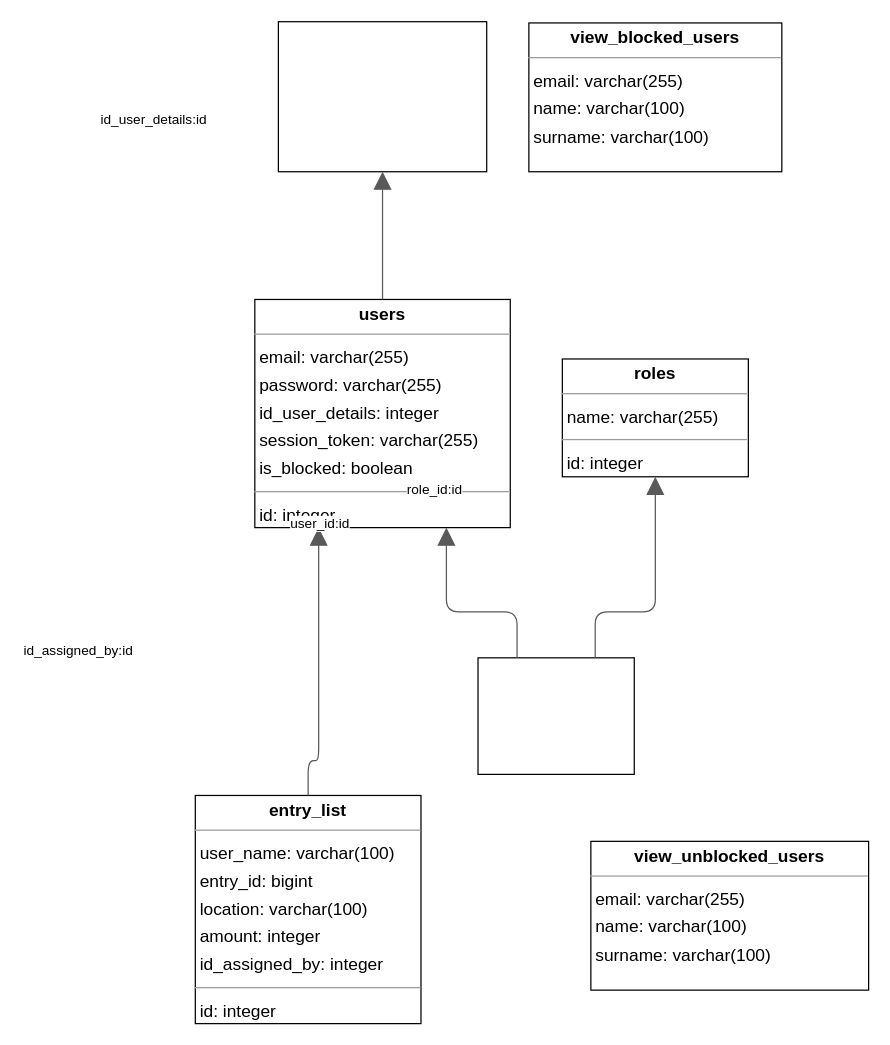
Some shapes in this 890 by 1045 pixel diagram are drawn without their labels. Each missing label, with the centre of its shape:
"user_roles user_id: integer role_id: integer" goes at point (555, 715).
"users_details name: varchar(100) surname: varchar(100) id: integer" goes at point (382, 96).
